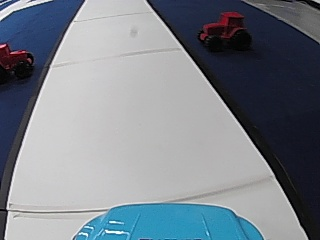tractor: (195, 10, 251, 53), (0, 40, 34, 81)
